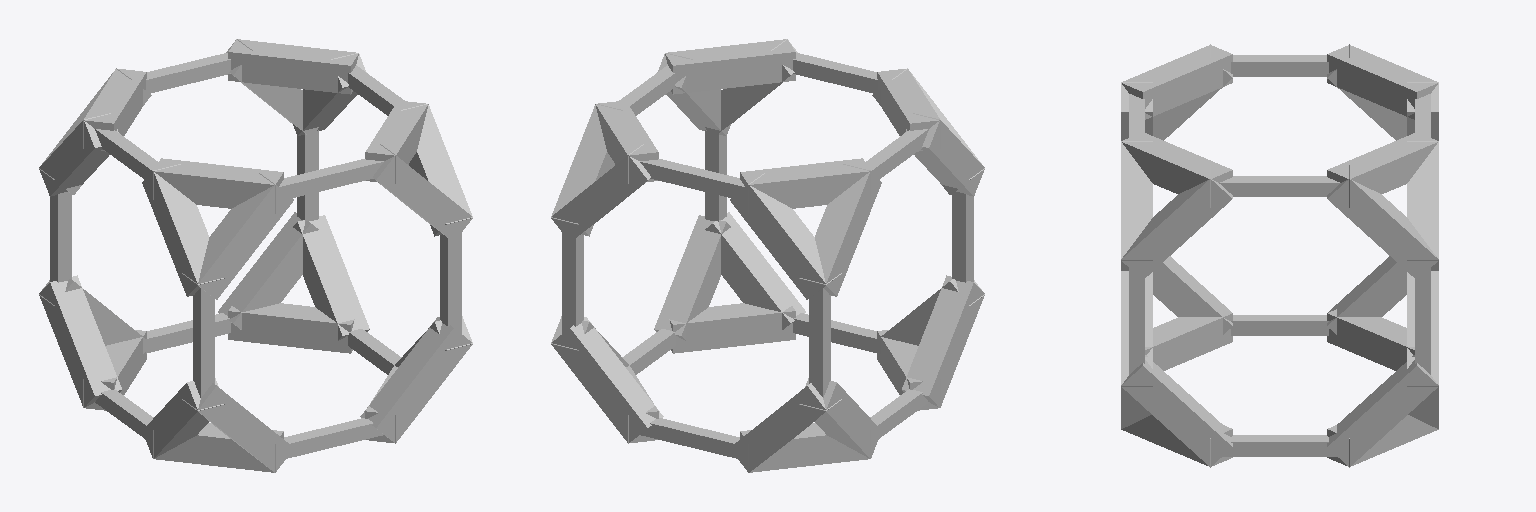
Rendered from EdgyCube.obj.
3 views of the same model, side by side, from view 1: azimuth 30°, elevation 25°; view 2: azimuth 150°, elevation 25°; view 3: azimuth 270°, elevation 25° (orthographic).
Parts seen in each view (by area): view 1: Cube.001, Cube.003_Cube.009, Cube.002_Cube.008, Cube_Cube.007; view 2: Cube.001, Cube.003_Cube.009, Cube.002_Cube.008, Cube_Cube.007; view 3: Cube.001, Cube_Cube.007, Cube.003_Cube.009, Cube.002_Cube.008.
Boxes of the visible parts, x1,y1,x2,y2 form: Cube.001: [39, 39, 472, 472]; Cube.003_Cube.009: [50, 130, 461, 397]; Cube.002_Cube.008: [146, 53, 383, 458]; Cube_Cube.007: [95, 65, 404, 438]; Cube.001: [551, 39, 984, 472]; Cube.003_Cube.009: [562, 130, 973, 397]; Cube.002_Cube.008: [640, 53, 877, 458]; Cube_Cube.007: [619, 65, 928, 438]; Cube.001: [1121, 44, 1438, 467]; Cube_Cube.007: [1219, 55, 1340, 456]; Cube.003_Cube.009: [1129, 268, 1430, 374]; Cube.002_Cube.008: [1129, 94, 1430, 137].
Size of the model in its own units: 2.01 by 2.01 by 2.01.